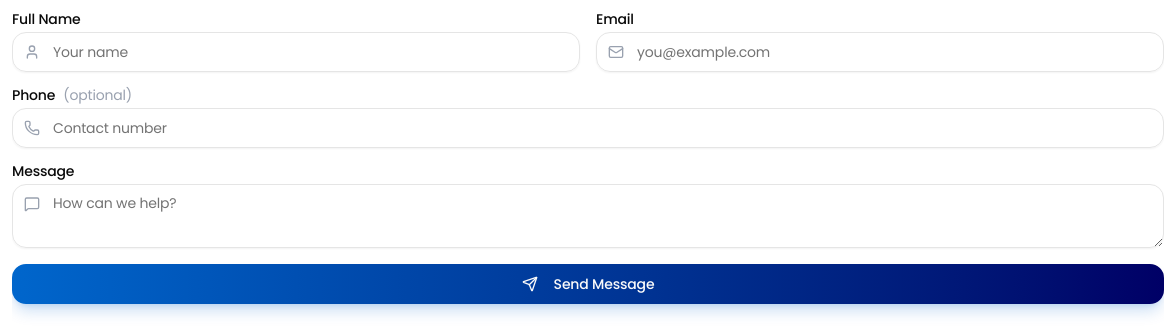
ContactForm › submits the form to /api/public/contact and shows a confirmation
This screenshot has width=1176, height=334.
In the field labelled "Full Name": (296, 52) left=12, top=32, right=580, bottom=72, type "Jane Doe"
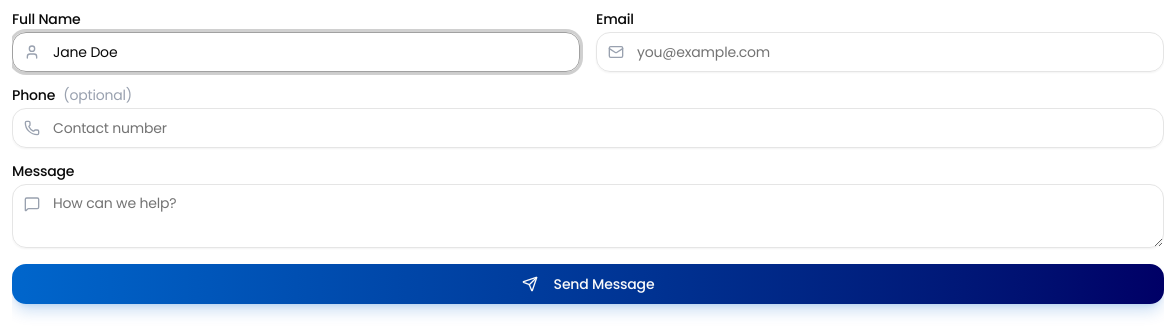
In the field labelled "Email": (880, 52) left=596, top=32, right=1164, bottom=72, type "jane@example.com"
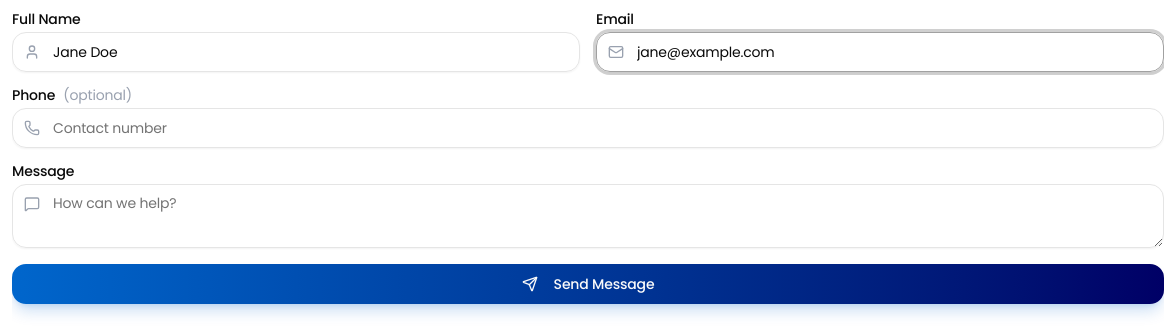
In the text box labelled "Message": (588, 216) left=12, top=184, right=1164, bottom=248, type "Do you support multiple campuses?"
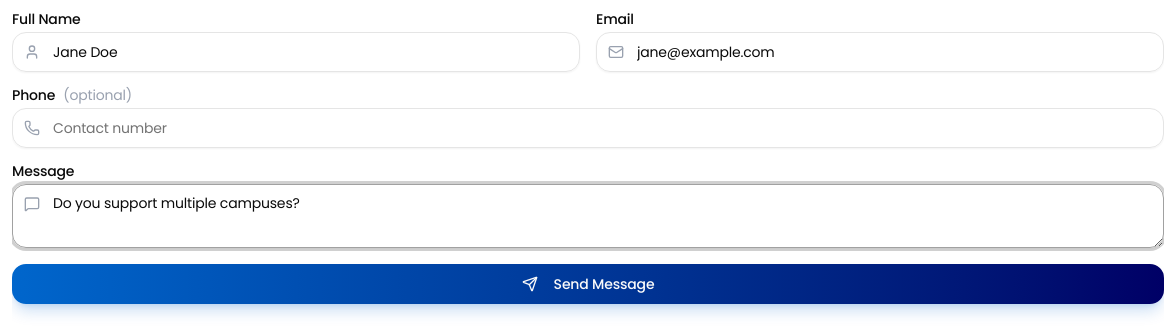
Click the button "Send Message": (588, 284) left=12, top=264, right=1164, bottom=304
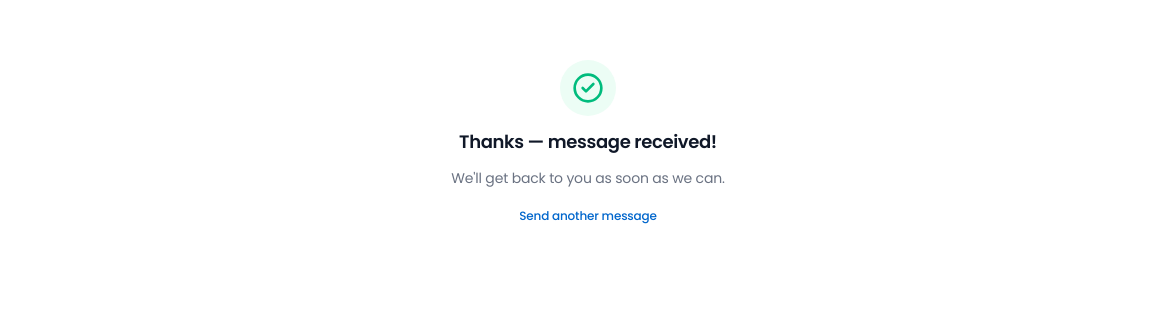
Result: the heading "Thanks — message received!" is shown at left=459, top=128, right=717, bottom=156
